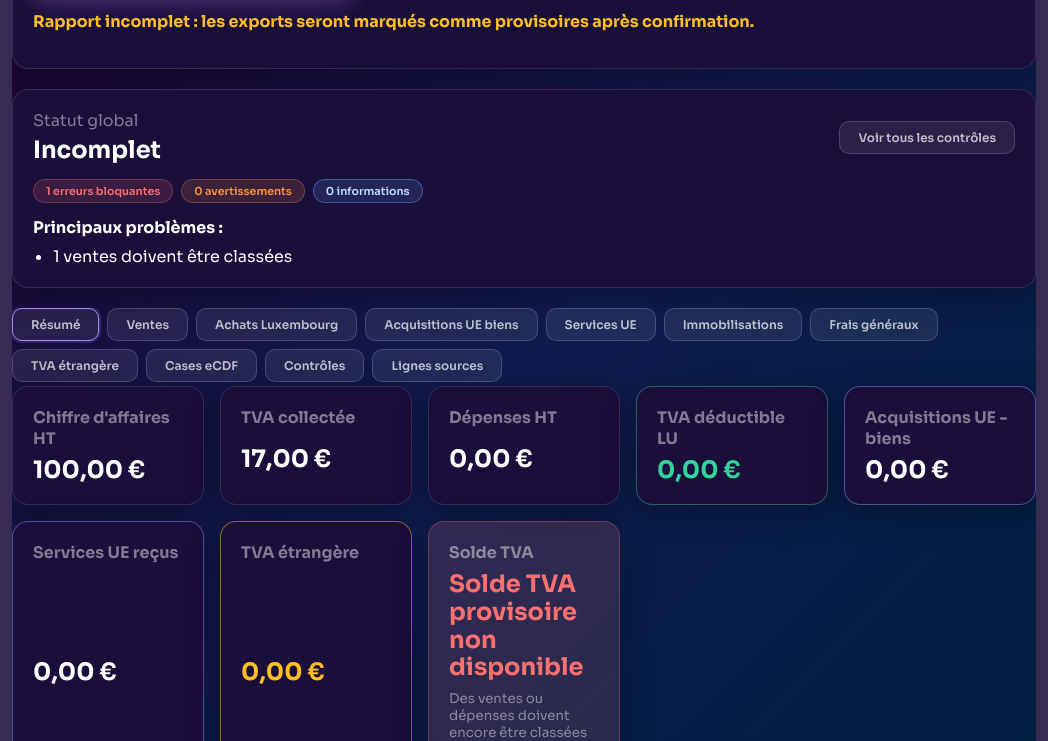
VatDeclaration › bouton elements a corriger filtre les lignes
The image size is (1048, 741).
(page scrolled)
Click the button "Contrôles" at (315, 365), box [265,349,364,382]
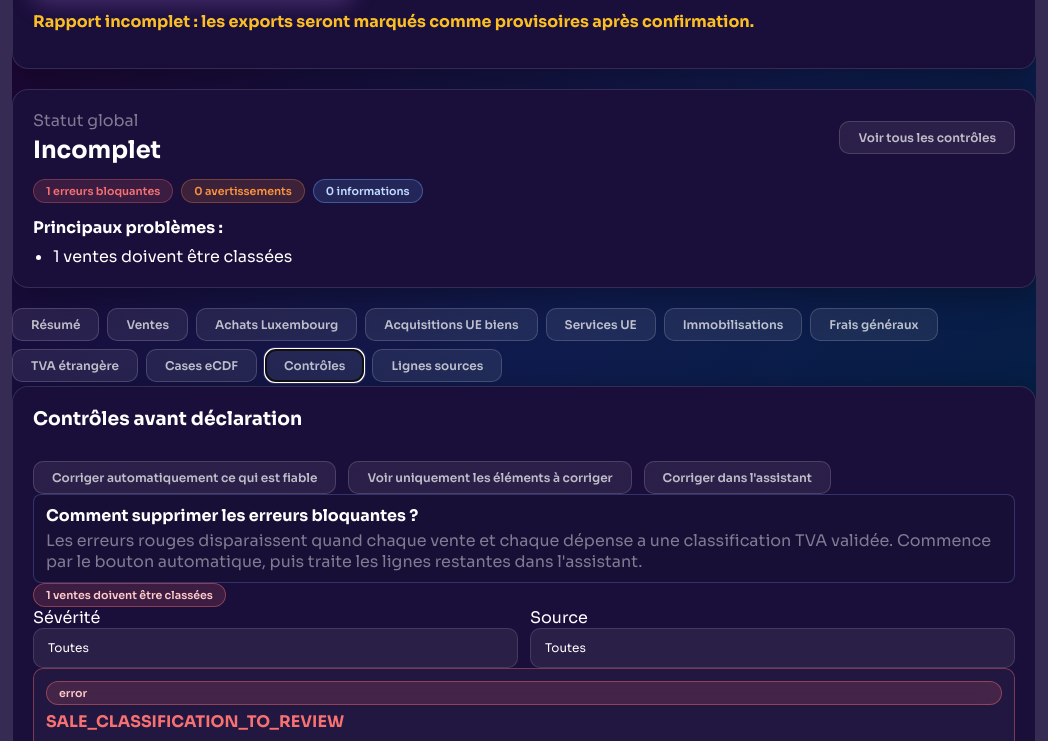
Click the button "Voir uniquement les éléments à corriger" at (490, 477), box [348,461,632,494]
(page scrolled)
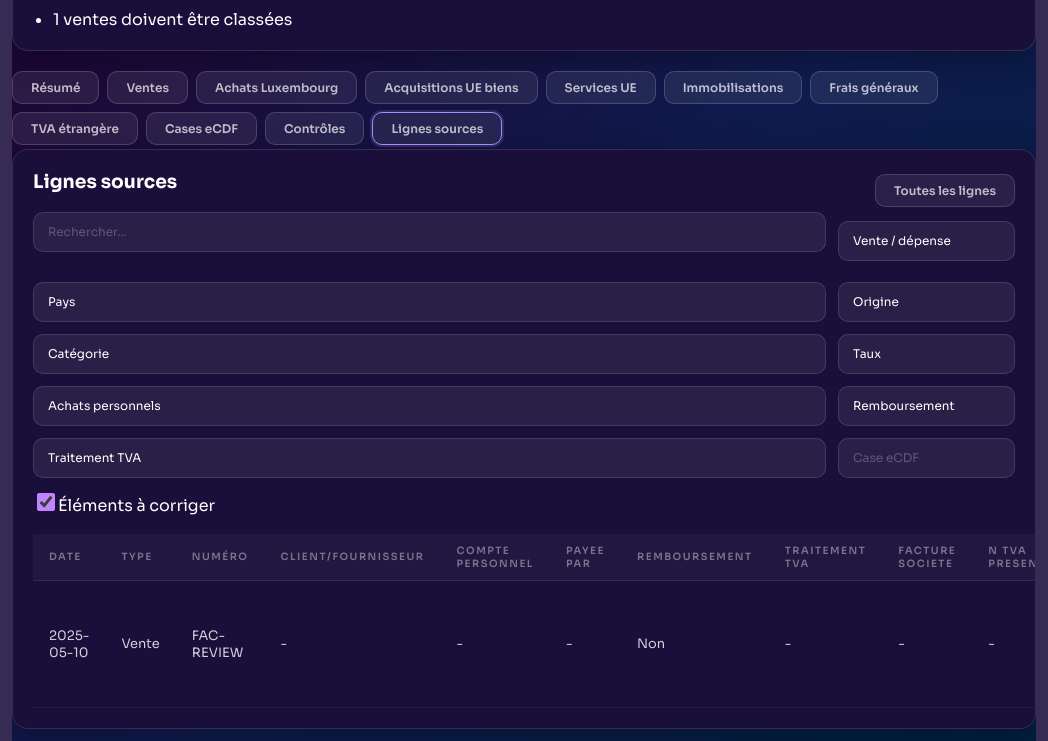
Expected: the text "FAC-REVIEW" is shown, [176,581,264,708]
